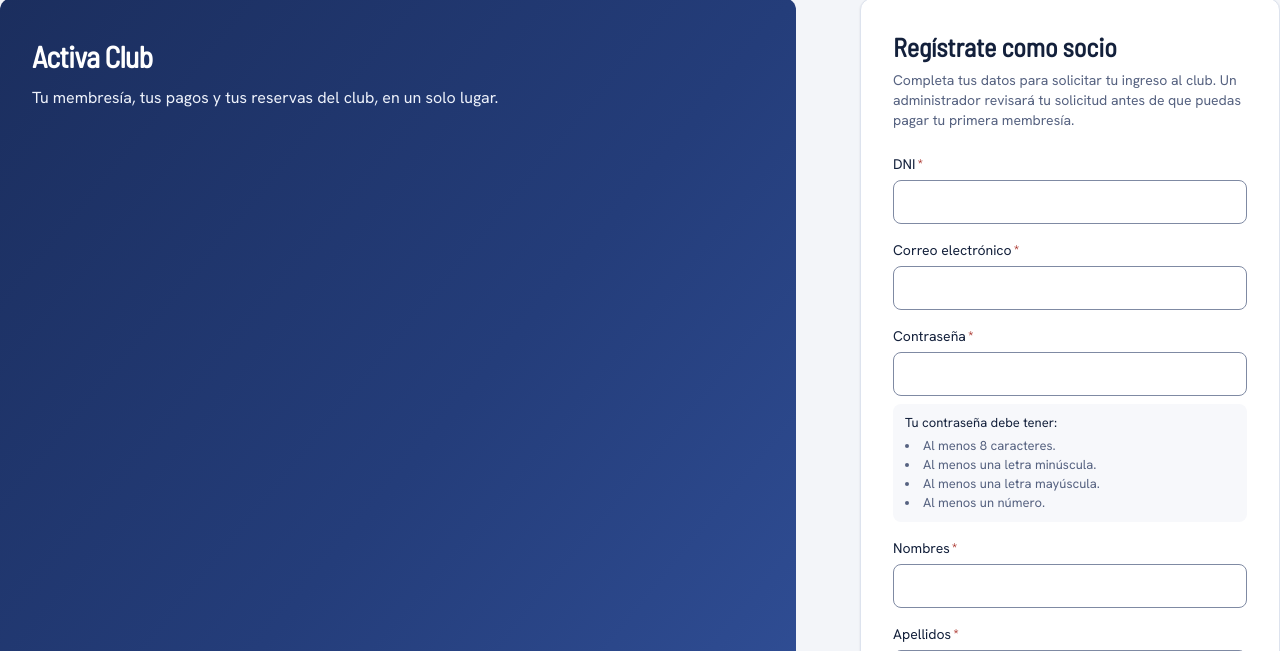
Test: RegisterPage › muestra un mensaje específico cuando el DNI ya está registrado, sin enlace roto (criterio 2)
Step 1. Type "10203040" into the field labelled "DNI*" → (1070, 202), box top-left (893, 180), bottom-right (1247, 224)
Step 2. Type "nuevo@example.com" into the field labelled "Correo electrónico*" → (1070, 288), box top-left (893, 266), bottom-right (1247, 310)
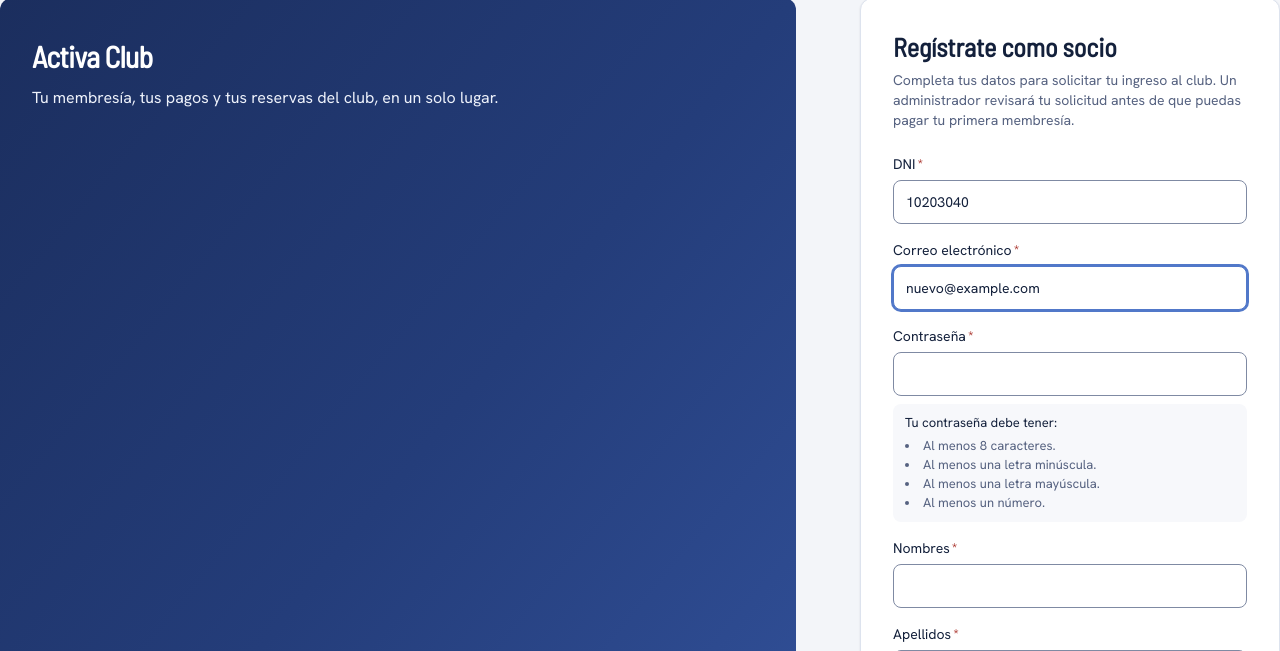
Step 3. Type "ClaveSegura1" into the password field labelled "Contraseña*" → (1070, 374), box top-left (893, 352), bottom-right (1247, 396)
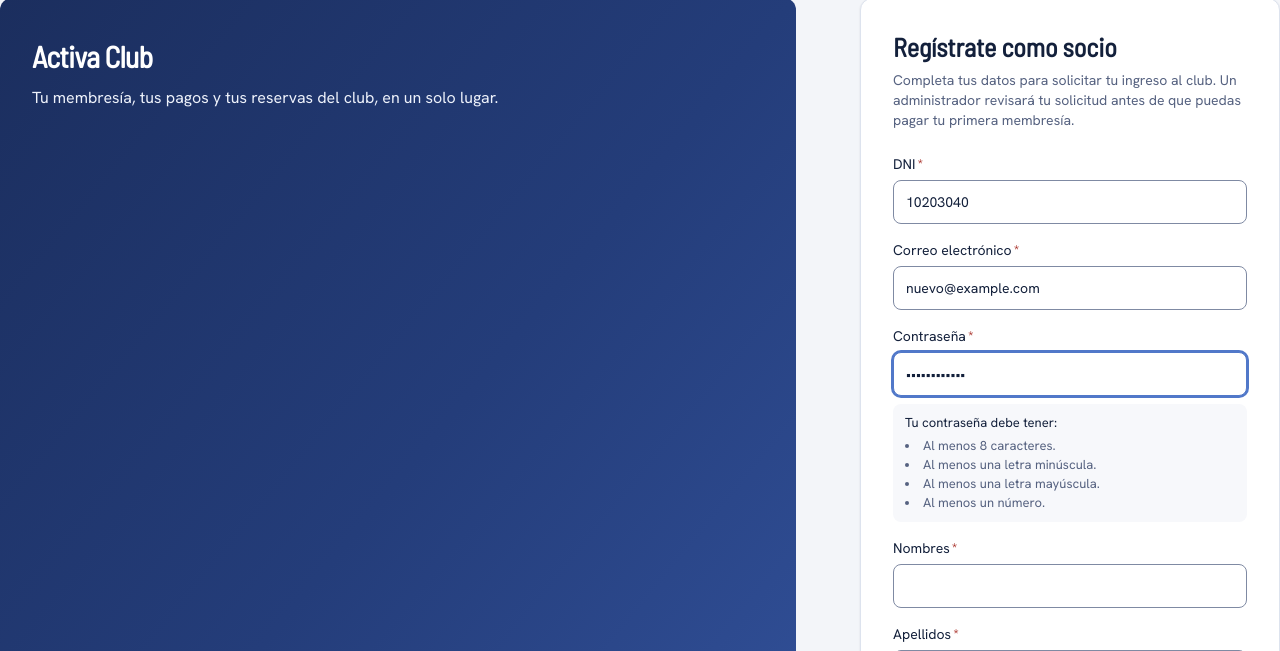
Step 4. Type "Juan" into the field labelled "Nombres*" → (1070, 586), box top-left (893, 564), bottom-right (1247, 608)
(page scrolled)
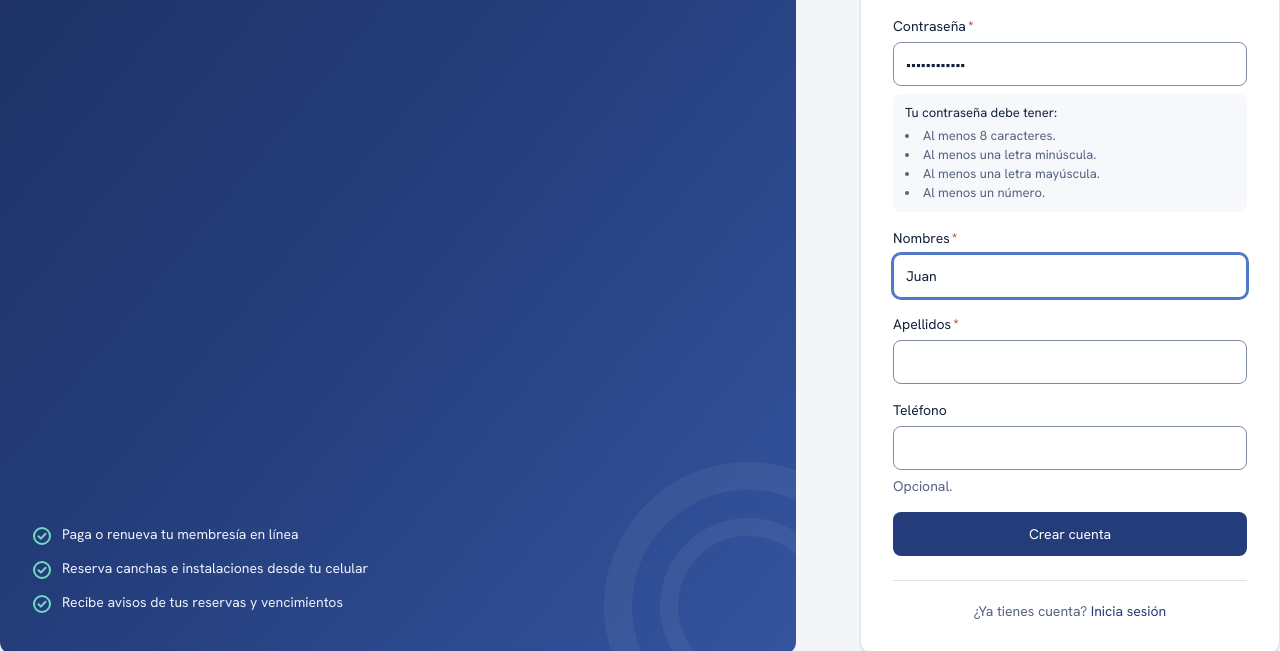
Step 5. Type "Pérez" into the field labelled "Apellidos*" → (1070, 362), box top-left (893, 340), bottom-right (1247, 384)
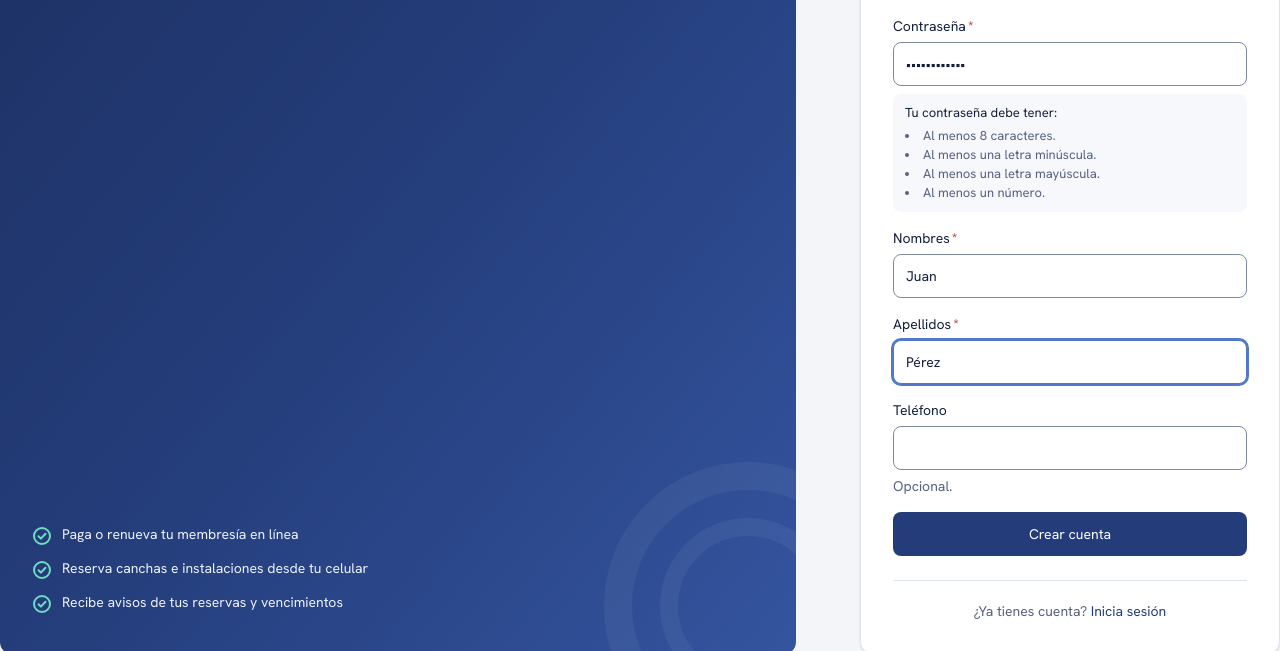
Step 6. Type "999000111" into the field labelled "Teléfono" → (1070, 448), box top-left (893, 426), bottom-right (1247, 470)
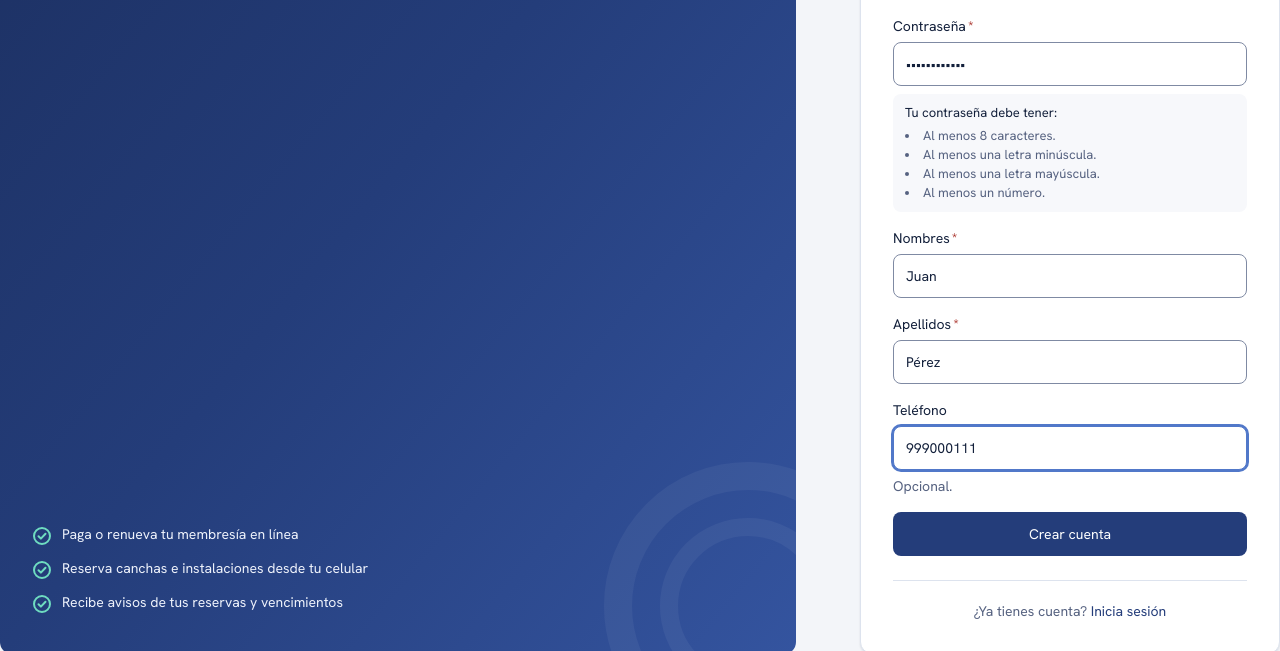
Step 7. Click the button "Crear cuenta" → (1070, 534), box top-left (893, 512), bottom-right (1247, 556)
(page scrolled)
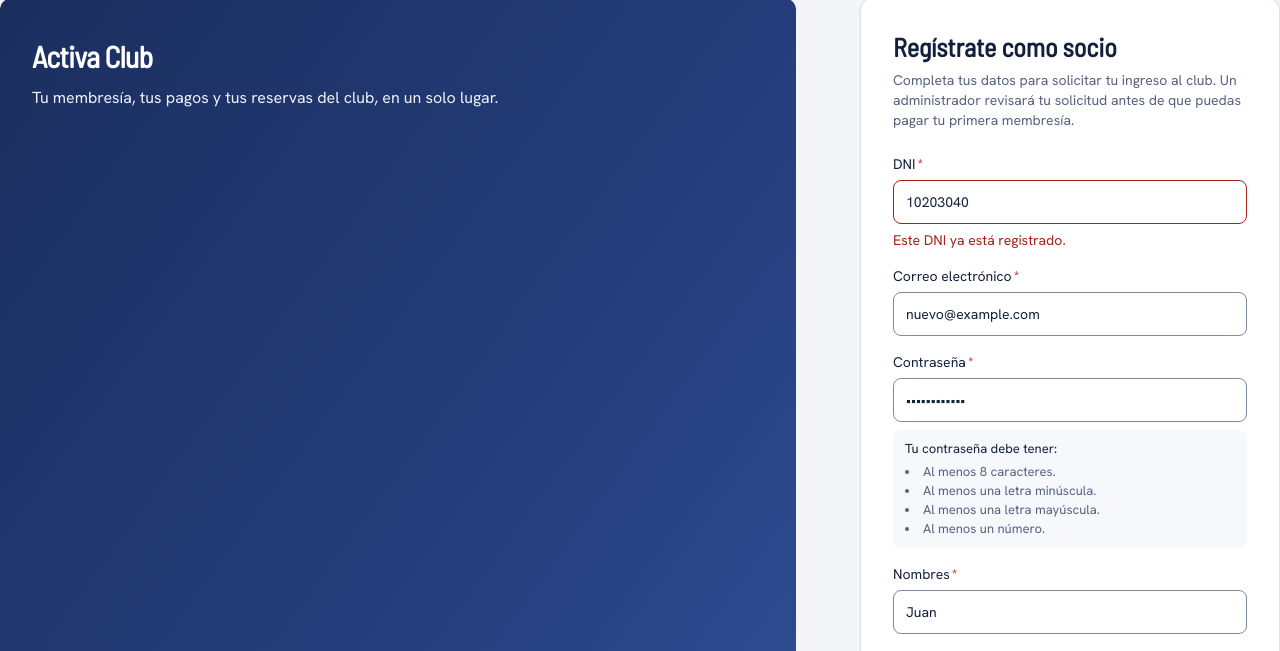
Now the text "Este DNI ya está registrado." is shown, box top-left (893, 231), bottom-right (1066, 249)
